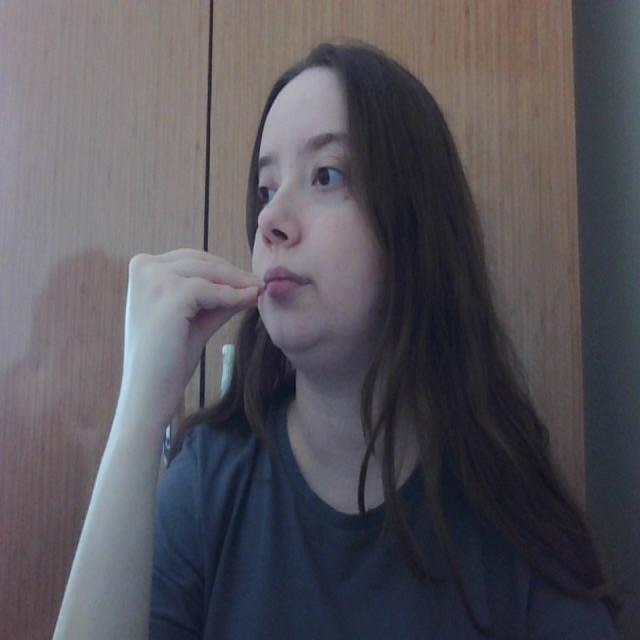Yemek: (120, 242, 314, 322)
